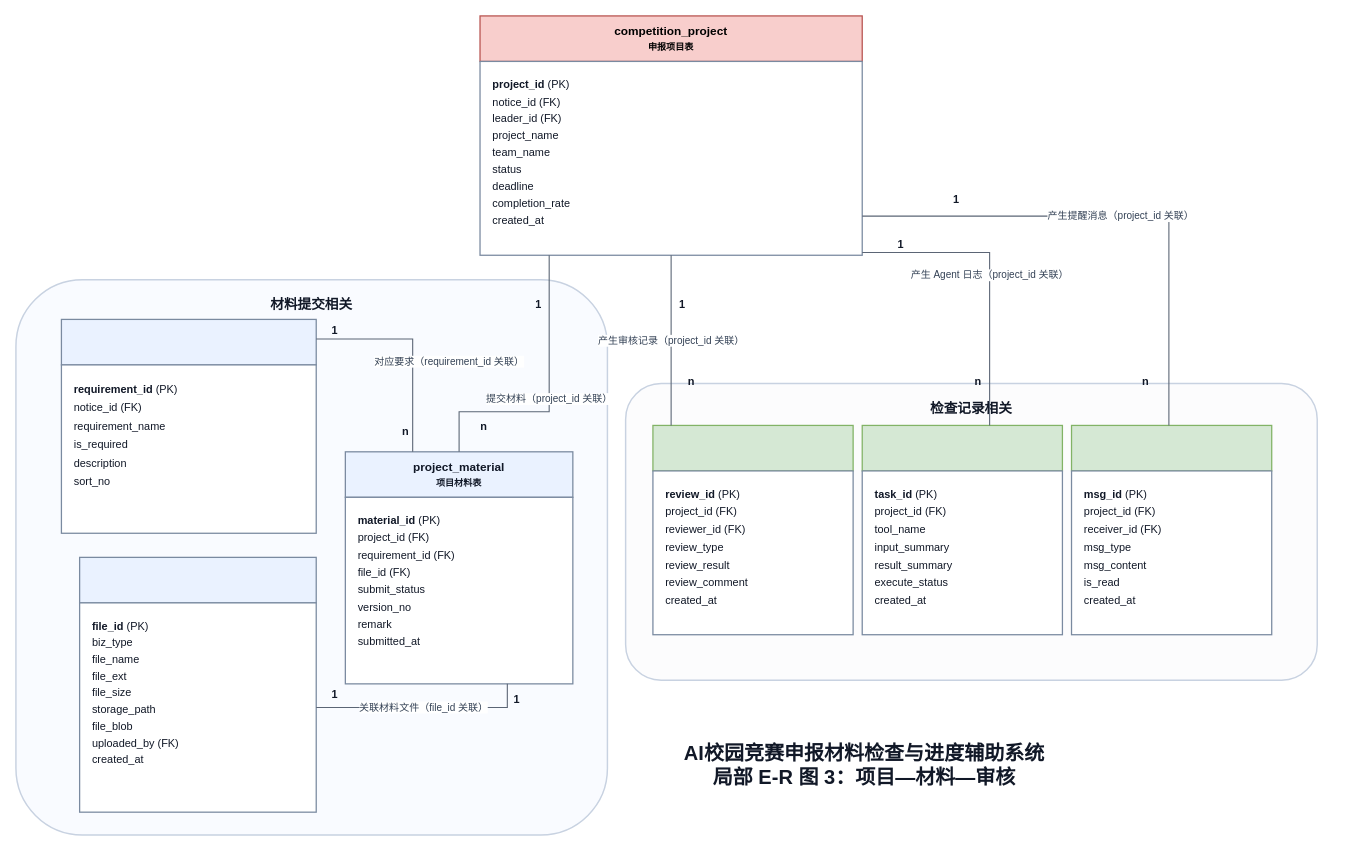
The diagram is 1371 pixels wide and 852 high, and some of its shapes have lost their labels. The centre of each missing label's shape, as x and y in pixels:
agent_task_log Agent任务日志表: the point at 962,447
file_asset 文件资源表: the point at 197,579
material_requirement 材料要求表: the point at 188,341
notify_message 消息提醒表: the point at 1171,447
review_record 审核记录表: the point at 752,447
